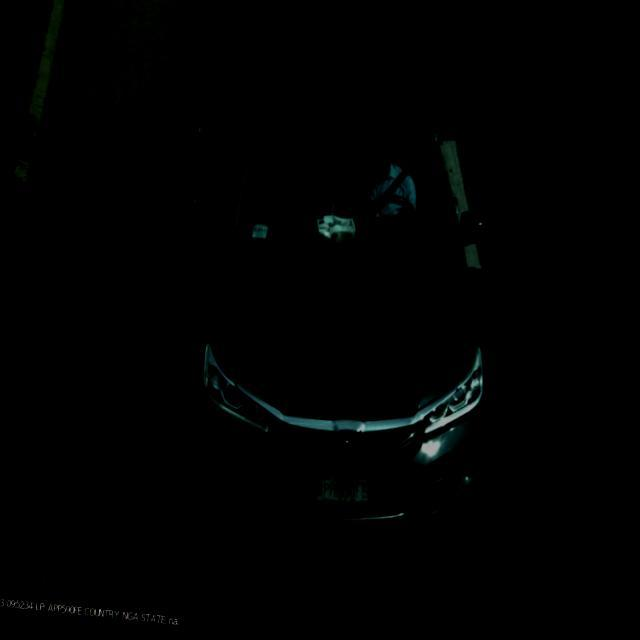windshield: (247, 132, 448, 249)
